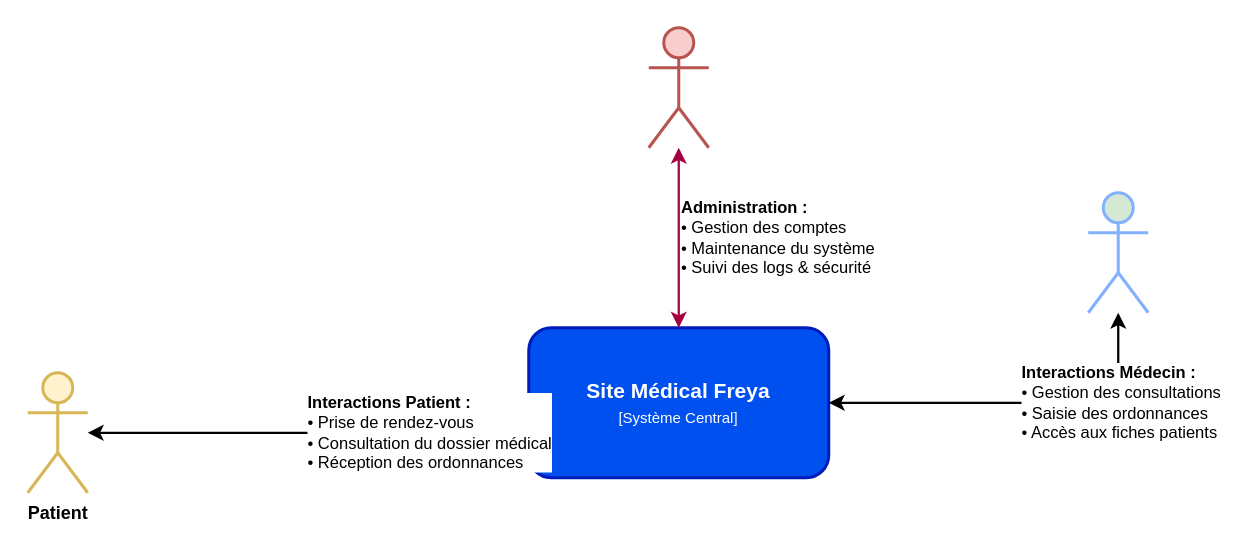
The diagram is 1247 pixels wide and 549 high, and some of its shapes have lost their labels. Here are the shapes that lost their labels. From the top down, the centre of each, then its label:
pixel 678 87: Administrateur
pixel 1117 252: Médecin
